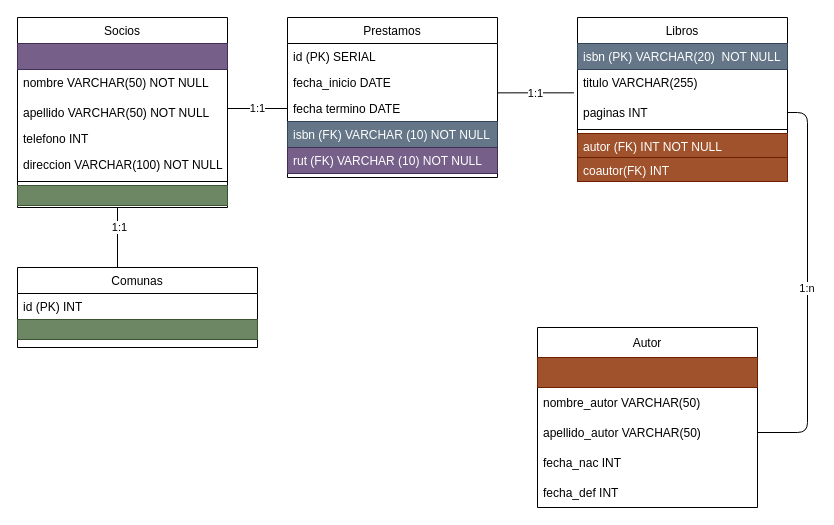
This 834x525 diagram has some shape labels left out. Each missing label, with the centre of its shape:
cod_autor (PK) SERIAL: the point at 647,372
Comuna (FK) INT: the point at 122,195
nombre_comuna VARCHAR(50) NOT NULL: the point at 137,329
rut (PK) INT: the point at 122,56
